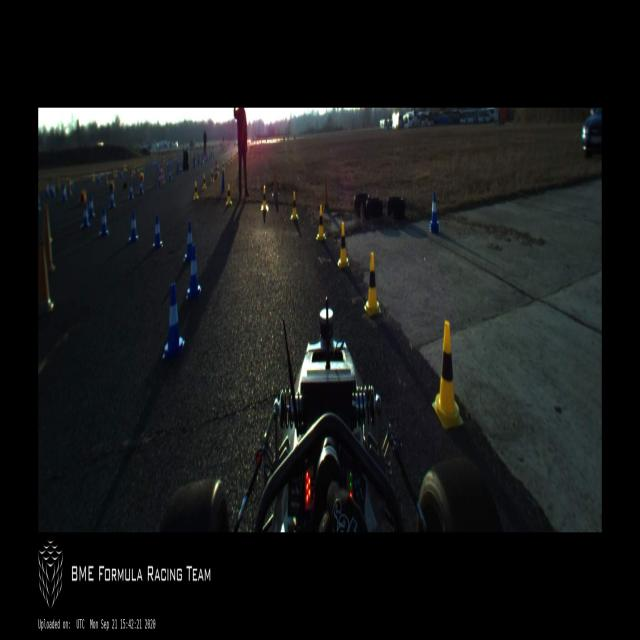blue_cone: (162, 282, 185, 358), (186, 245, 202, 300), (183, 222, 196, 262), (429, 191, 440, 233), (153, 214, 163, 249), (128, 209, 138, 243), (99, 207, 109, 238), (80, 203, 90, 229), (88, 195, 95, 217), (109, 189, 116, 209), (128, 182, 134, 200), (138, 180, 144, 195), (62, 184, 66, 202), (45, 183, 49, 196), (158, 174, 162, 186), (38, 190, 40, 212), (194, 156, 196, 169), (201, 154, 203, 166), (52, 184, 54, 196), (71, 178, 73, 190), (169, 170, 171, 181), (180, 164, 182, 174), (98, 172, 100, 182), (142, 162, 144, 172), (198, 156, 200, 165), (51, 183, 53, 192), (120, 169, 122, 178), (207, 153, 209, 162), (156, 159, 158, 168), (166, 162, 168, 170), (151, 159, 153, 166), (212, 152, 214, 158), (172, 161, 174, 166)
large_orange_cone: (159, 163, 163, 185)
unknown_cone: (38, 245, 56, 314), (41, 208, 56, 268), (323, 178, 330, 211), (272, 170, 280, 196), (78, 190, 86, 204), (104, 168, 108, 186), (214, 162, 217, 180), (110, 181, 114, 192), (222, 172, 224, 192), (140, 172, 144, 182), (176, 162, 179, 174), (68, 180, 70, 195)
yellow_cone: (432, 320, 463, 429), (364, 252, 381, 317), (337, 222, 350, 268), (316, 205, 326, 240), (291, 190, 298, 222), (260, 188, 269, 212), (226, 184, 232, 207), (193, 180, 199, 199), (202, 174, 206, 189), (210, 171, 214, 183), (222, 161, 225, 170), (92, 172, 95, 180), (58, 180, 60, 192), (218, 164, 220, 175), (115, 168, 117, 178), (231, 155, 233, 164), (133, 165, 135, 174), (228, 157, 230, 165), (234, 153, 236, 161), (140, 162, 142, 170), (130, 169, 132, 176), (138, 163, 140, 170), (153, 157, 155, 164), (124, 164, 125, 172), (164, 157, 165, 162)
